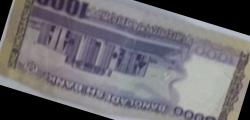1000 taka: (11, 2, 246, 119)
